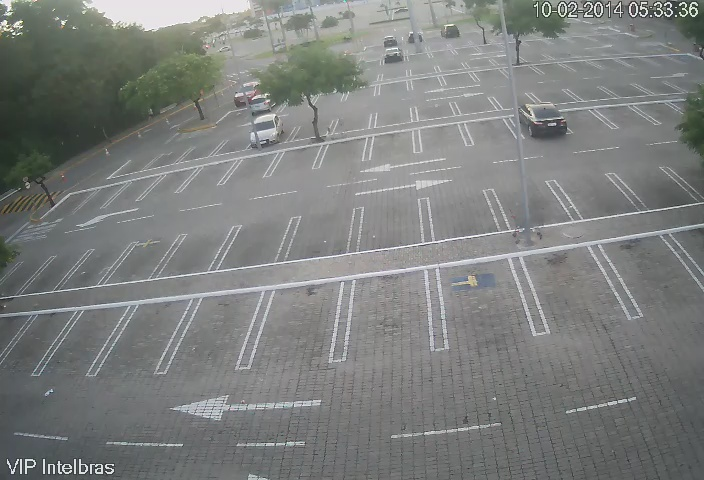car: (515, 100, 560, 136), (245, 114, 284, 146)
lot: (508, 248, 626, 326), (346, 269, 437, 366), (427, 260, 526, 349), (260, 280, 343, 371), (597, 236, 695, 308), (180, 295, 255, 369), (117, 298, 177, 378), (56, 305, 115, 378), (490, 184, 573, 228), (554, 179, 639, 221), (425, 196, 506, 240), (614, 168, 694, 211), (358, 200, 433, 245), (291, 205, 353, 259), (230, 213, 288, 270), (14, 313, 63, 378), (169, 225, 224, 279), (121, 229, 166, 286), (40, 250, 82, 300), (81, 240, 114, 294), (461, 122, 519, 150), (368, 129, 419, 160), (414, 124, 468, 153), (556, 106, 609, 135), (596, 105, 652, 131), (274, 140, 317, 173), (322, 139, 369, 168), (233, 153, 275, 184), (634, 100, 683, 124), (151, 169, 188, 200), (190, 163, 226, 190), (294, 114, 331, 139), (335, 110, 374, 133), (80, 187, 117, 210), (115, 180, 148, 205), (219, 129, 251, 153), (54, 193, 85, 217), (453, 100, 499, 115), (152, 150, 186, 169), (490, 94, 536, 108), (418, 103, 457, 119), (374, 109, 415, 124), (533, 89, 574, 103), (121, 153, 155, 169), (640, 82, 678, 96), (604, 86, 648, 98), (570, 87, 610, 99), (188, 143, 217, 159)
